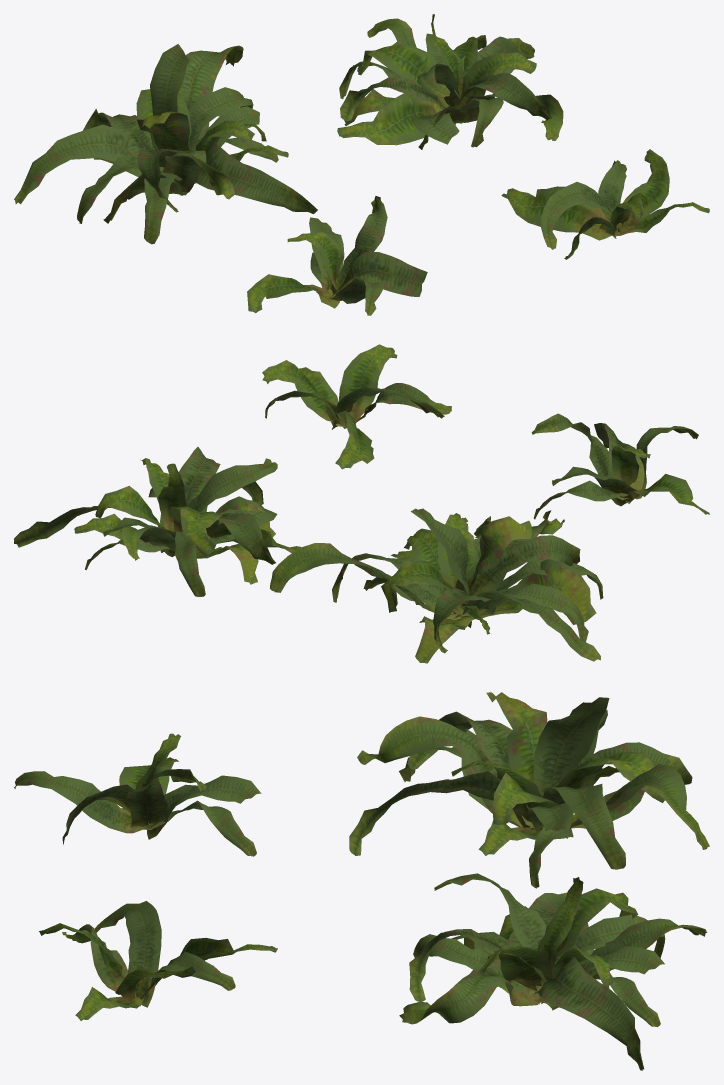
File: fern_02.glb
3 views of the same model, one above another, from view 1: azimuth 30°, elevation 25°; view 2: azimuth 150°, elevation 25°; view 3: azimuth 270°, elevation 25° (orthographic). The views are drawn at different scales.
Visible parts, largest first — view 1: fern_02_b; view 2: fern_02_b; view 3: fern_02_b.
Part boxes in pixels (box(x1,y1,x2,y2)): fern_02_b: box(14, 14, 709, 315); fern_02_b: box(14, 344, 709, 663); fern_02_b: box(14, 692, 709, 1070).
Bounding box in the file's own units: 1.97 × 0.4277 × 1.72.
1 material, 1 textured.
